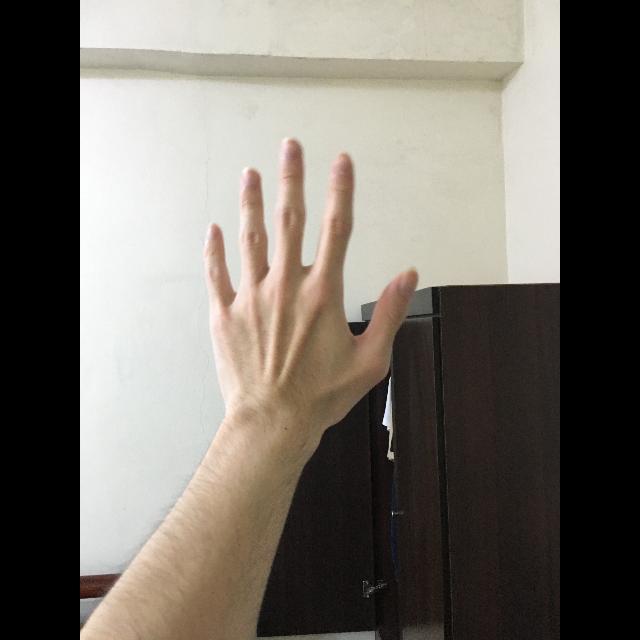bare_hand: (202, 133, 423, 428)
